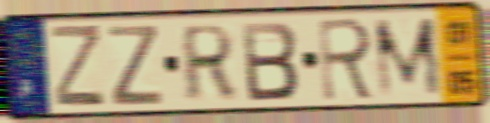B: (239, 19, 302, 104)
M: (370, 14, 446, 101)
R: (316, 15, 378, 105), (181, 22, 237, 105)
Z: (49, 21, 108, 110), (106, 23, 165, 108)
